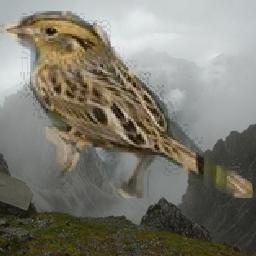Sparrow: (0, 12, 254, 199)
